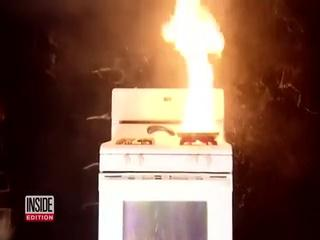Fire: (175, 1, 233, 135)
